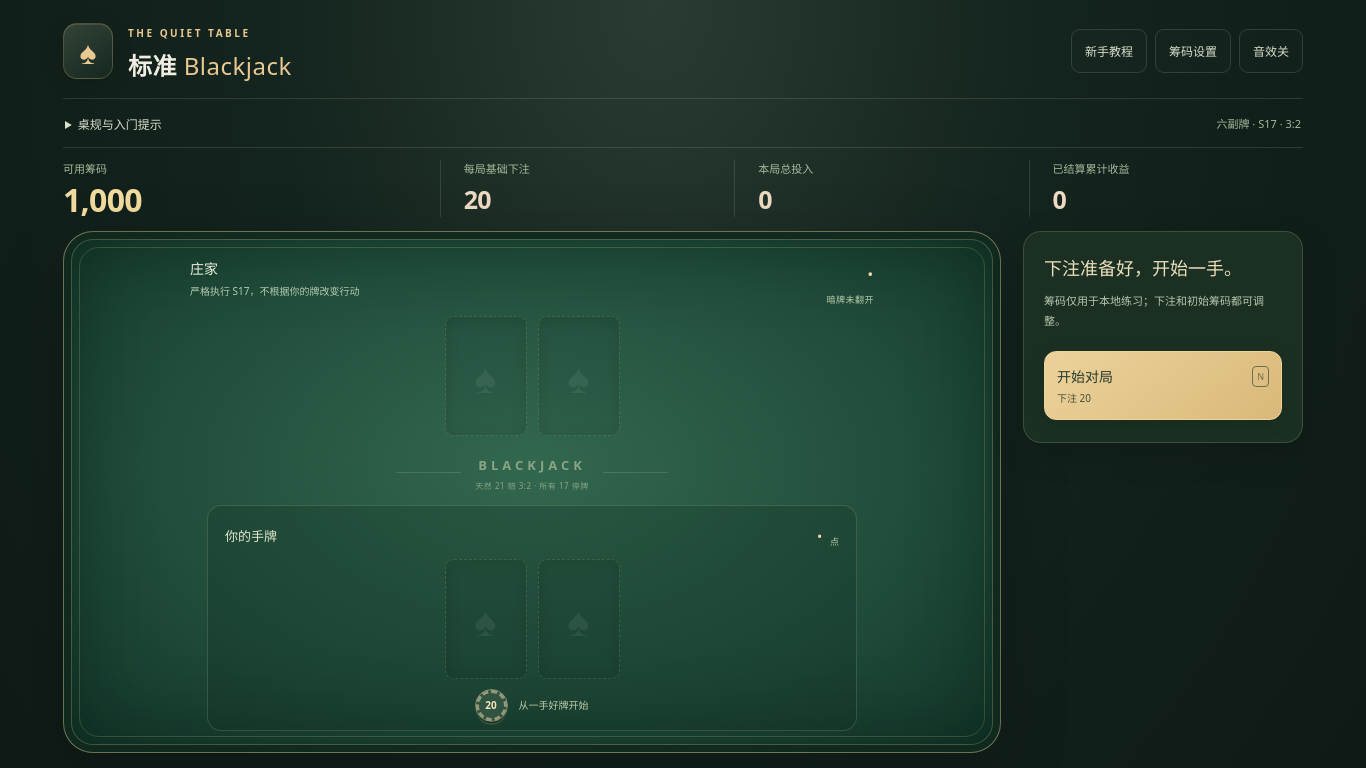
Test: standard table controls and local training data › keeps secondary guidance collapsed while tutorial and play stay directly available
The width and height of the screenshot is (1366, 768).
Expected: the button "开始对局 下注 20 N" is shown, x1=1044 y1=351 x2=1282 y2=420
Click the heading "桌规与入门提示 六副牌 · S17 · 3:2": x=120, y=124 x1=78 y1=116 x2=1301 y2=133
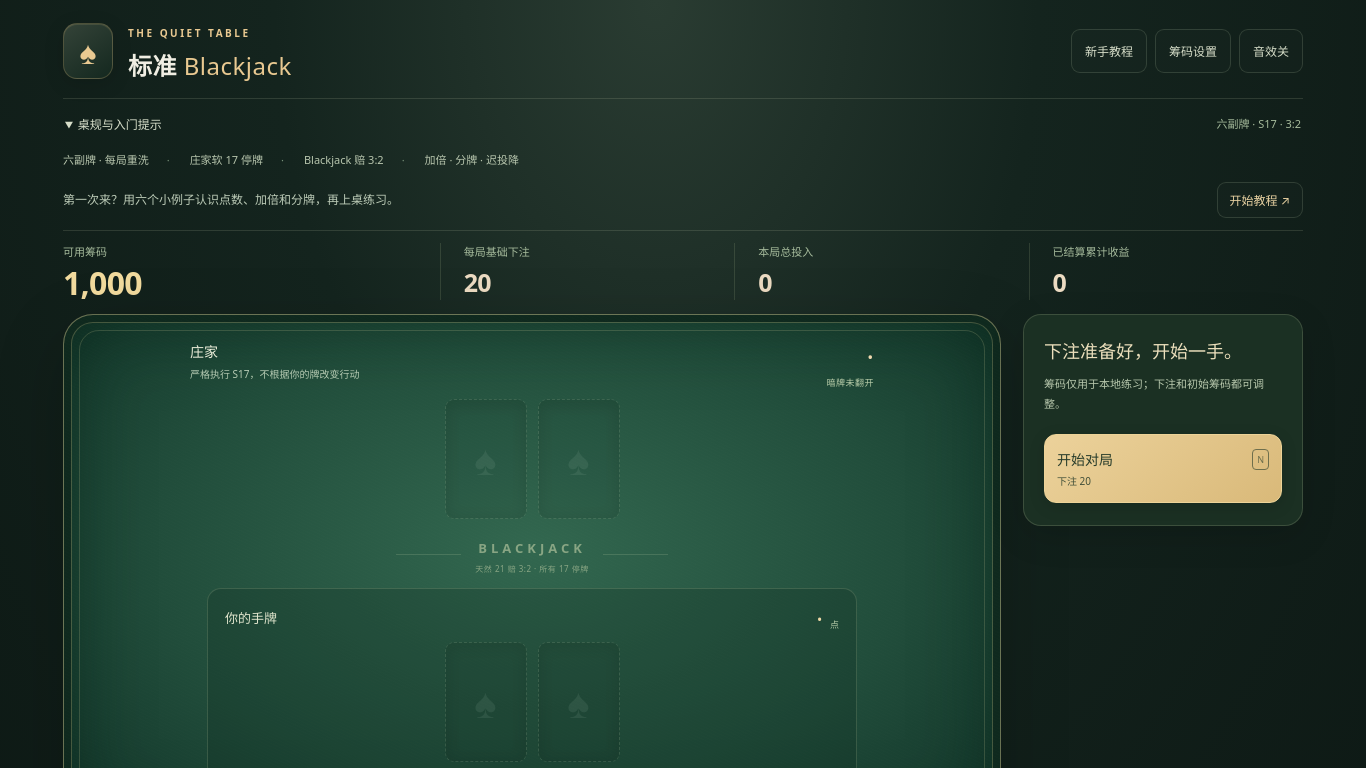
Result: the text "桌规与入门提示" shows "Blackjack 赔 3:2" at x1=304 y1=152 x2=384 y2=167
Click the button "新手教程": x=1109, y=51 x1=1071 y1=29 x2=1147 y2=73
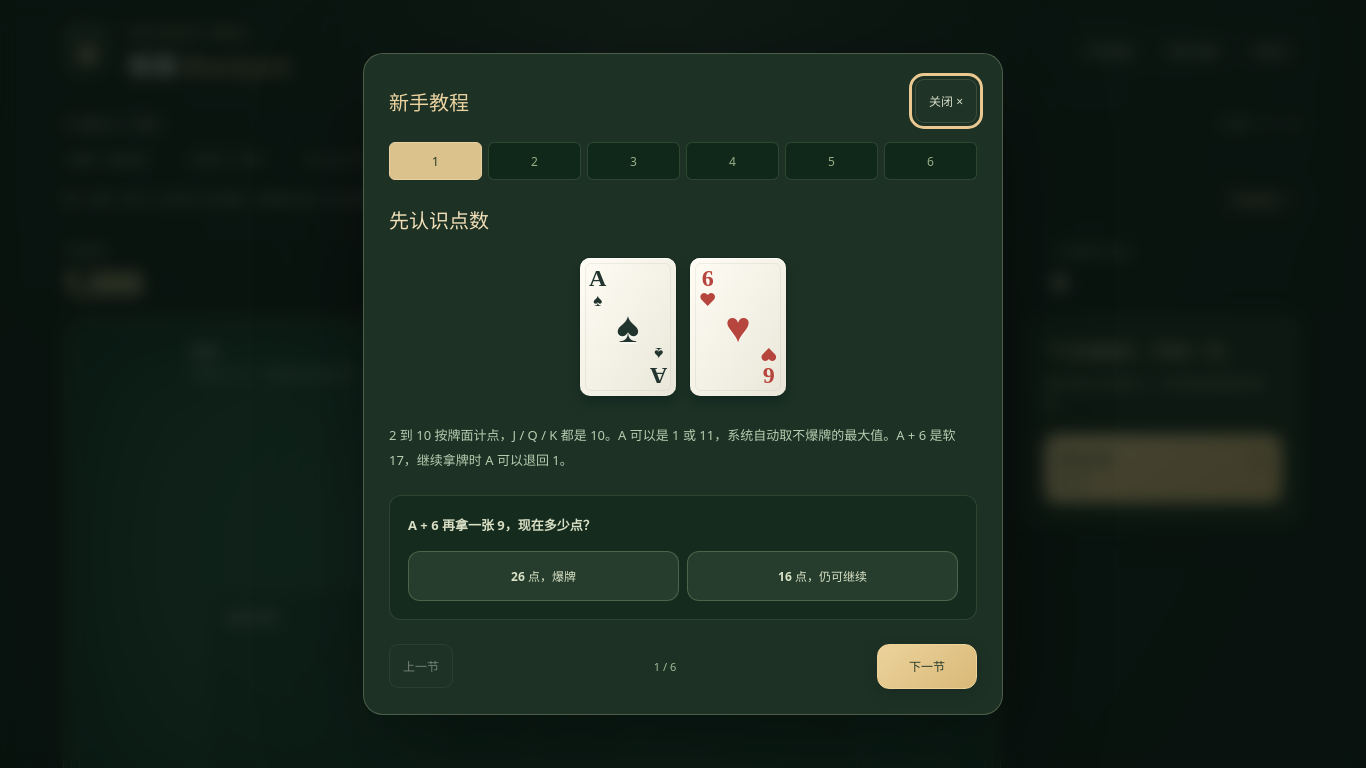
Result: the dialog "新手教程" is shown at x1=363 y1=53 x2=1003 y2=715
Press Escape
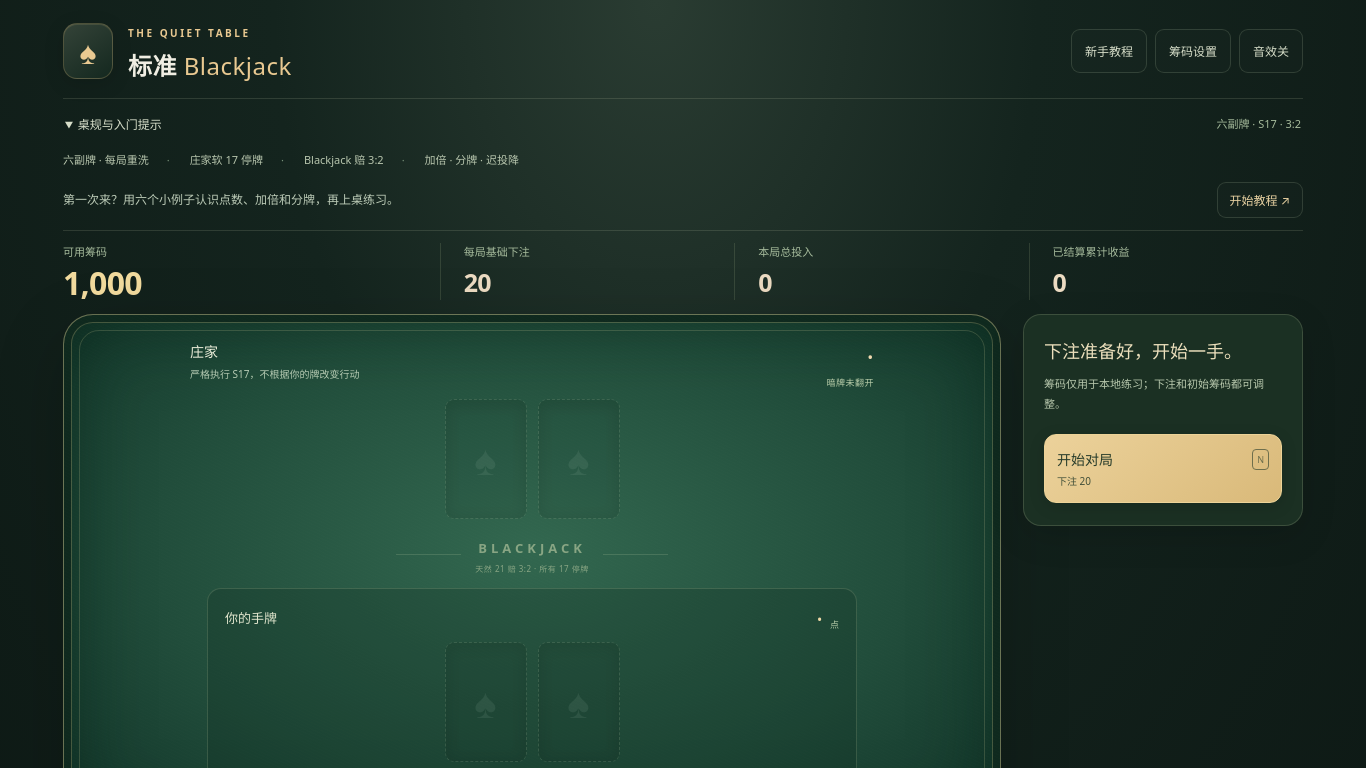
Expected: the button "开始对局 下注 20 N" is shown, x1=1044 y1=433 x2=1282 y2=502
Result: the dialog is gone
